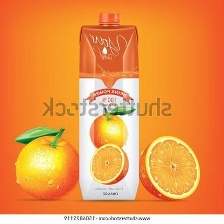carton: (77, 11, 142, 203)
